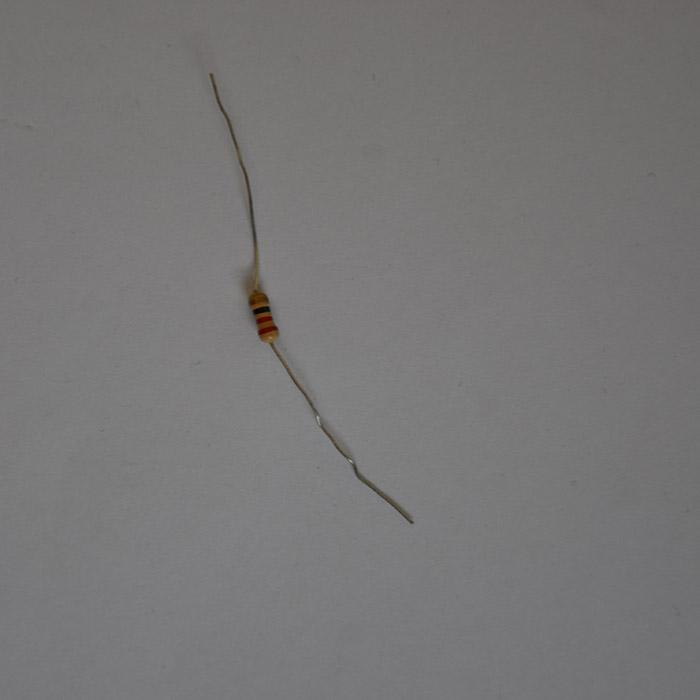resistor: (247, 288, 277, 343)
